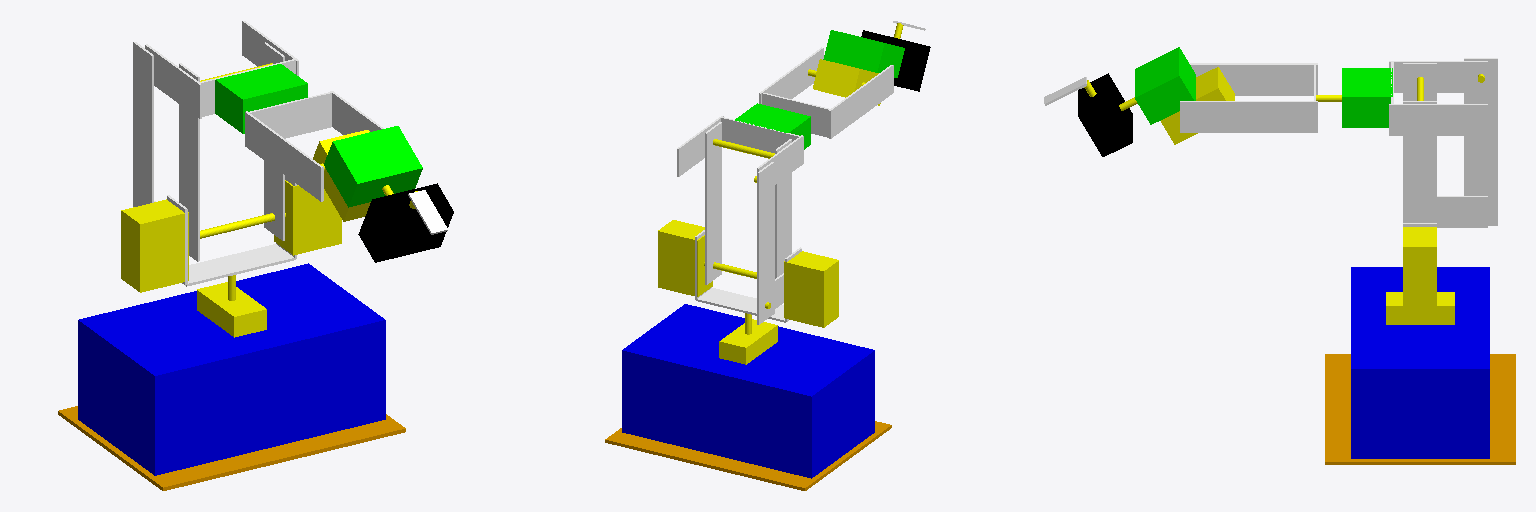
The robot description file, URDF, robot "six_arm":
<?xml version="1.0"?>
<robot name="six_arm"> 
<!--creat baselink-->
  <link name="base_link">
    <visual>
      <geometry>
        <box size="0.20 .15 .003"/>
      </geometry>
    </visual>
  </link>

<!--add dody-->
  <link name="body">
    <visual>
      <geometry>
       <box size="0.19 .11 .08"/>
      </geometry>
      <material name="blue">
          <color rgba="0 0 255 0.8"/>
      </material>  
    </visual>
  </link>  

  <joint name="base_to_body" type="fixed">
    <parent link="base_link"/>
    <child link="body"/>
    <origin xyz="0.0 0.0 0.04"/>
  </joint> 

<!-- shoulder stevo  XY -->
  <link name="shoulder_stevo">
    <visual>
      <geometry>
       <box size="0.054 .0403 .027"/>
      </geometry>
      <material name="black">
          <color rgba="1 1 0 1"/>
      </material>  
    </visual>
  </link> 

 <joint name="body_to_left_shoulder_stevo" type="fixed">
    <parent link="body"/>
    <child link="shoulder_stevo"/>
    <!--origin rpy="1.57075 0 1.57075" xyz="0.04 0.035 0.026"/ -->
    <origin rpy="1.57075 0 1.57075" xyz="0 0 0.036"/>
    <!-- origin rpy="1.57075 0 0" xyz="0.0 0.0 0.026" -->
 </joint>  


<!-- shoulder stevo axis XY -->
  <link name="shoulder_stevo_axis">
    <visual>
      <geometry>
       <cylinder length=".04" radius="0.0029"></cylinder>
      </geometry>
      <material name="yellow">
          <color rgba="1 1 0 1"/>
      </material>  
    </visual>
  </link>

  <joint name="shoulder_stevo_to_axis" type="revolute">
    <axis xyz="0 0 1"/> 
    <parent link="shoulder_stevo"/>
    <child link="shoulder_stevo_axis"/>
    <origin rpy="1.57075 0 0" xyz="0.0 0.027 0.0"/>
    <limit effort="100" velocity="100" lower="0" upper="3.1415926"/> 
    <joint_properties damping="0.0" friction="0.0"/>
  </joint>  





<!-- shoulder arm -->



<!-- left side-->
  <link name="shoulder_arm_up">
    <visual>
      <geometry>
       <box size="0.06 .027 .002"/>
      </geometry>
      <material name="sliver">
          <color rgba="223 223 223 1"/>
      </material>  
    </visual>
  </link> 

 <joint name="shoulder_stevo_axis_to_shoulder_arm_up" type="fixed">
    <parent link="shoulder_stevo_axis"/>
    <child link="shoulder_arm_up"/>
    <!-- origin rpy="0 -1.57075 0" xyz="0.073 0.0 -0.035"/ -->
    <origin rpy="0 -1.57075 1.57075" xyz="0 0.045 -0.05"/>
  </joint>  

  <!-- right side-->
  <link name="shoulder_arm_down">
    <visual>
      <geometry>
       <box size="0.06 .027 .002"/>
      </geometry>
      <material name="sliver">
          <color rgba="223 223 223 1"/>
      </material>  
    </visual>
  </link> 

 <joint name="shoulder_arm_up_to_shoulder_arm_down" type="fixed">
    <parent link="shoulder_arm_up"/>
    <child link="shoulder_arm_down"/>
    <origin xyz="0.0 0.0 0.09"/>
  </joint>  

 <!-- middle side-->
  <link name="shoulder_arm_middle">
    <visual>
      <geometry>
       <box size="0.09 .027 .002"/>
      </geometry>
      <material name="sliver">
          <color rgba="223 223 223 1"/>
      </material>  
    </visual>
  </link> 

 <joint name="shoulder_arm_up_to_shoulder_arm_middle" type="fixed">
    <parent link="shoulder_arm_up"/>
    <child link="shoulder_arm_middle"/>
    <origin rpy="0 1.57075 0" xyz="0.03 0.0 0.045"/>
  </joint> 


<!-- big arm_stevo left lift  XZ-->
  <link name="big_arm_stevo_lift">
    <visual>
      <geometry>
       <box size="0.054 .0403 .027"/>
      </geometry>
      <material name="black">
          <color rgba="1 1 0 1"/>
      </material>  
    </visual>
  </link> 

 <joint name="shoulder_arm_up_to_big_arm_stevo_lift" type="fixed">
    <parent link="shoulder_arm_up"/>
    <child link="big_arm_stevo_lift"/>
    <origin rpy="1.57075 0 0" xyz="0 0 -0.018"/>
  </joint> 
 <!-- big arm_stevo left lift  axis XZ-->
  <link name="big_arm_stevo_lift_axis">
    <visual>
      <geometry>
       <cylinder length=".0802" radius="0.0029"></cylinder>
      </geometry>
      <material name="yellow">
          <color rgba="1 1 0 1"/>
      </material>  
    </visual>
  </link>

  <joint name="big_arm_stevo_lift_to_axis" type="continuous">
    <axis xyz="0 0 1"/> 
    <parent link="big_arm_stevo_lift"/>
    <child link="big_arm_stevo_lift_axis"/>
    <origin rpy="1.57075 3.14159 0" xyz="0 0.0581 0"/>
    <limit effort="100" velocity="100"/> 
    <joint_properties damping="0.0" friction="0.0"/>
  </joint>  



<!-- middle arm_stevo  right lift  XZ-->
  <link name="middle_arm_stevo_right_lift">
    <visual>
      <geometry>
       <box size="0.054 .0403 .027"/>
      </geometry>
      <material name="black">
          <color rgba="1 1 0 1"/>
      </material>  
    </visual>
  </link> 

 <joint name="shoulder_arm_down_to_middle_arm_stevo_lift" type="fixed">
    <parent link="shoulder_arm_down"/>
    <child link="middle_arm_stevo_right_lift"/>
    <origin rpy="1.57075 0 0" xyz="0 0 0.018"/>
  </joint> 
 <!-- middle arm_stevo right lift axis XZ-->
  <link name="middle_arm_stevo_axis">
    <visual>
      <geometry>
       <cylinder length=".008" radius="0.0029"></cylinder>
      </geometry>
      <material name="yellow">
          <color rgba="1 1 0 1"/>
      </material>  
    </visual>
  </link>

  <joint name="middle_arm_stevo_to_axis" type="continuous">
    <axis xyz="0 0 1"/> 
    <parent link="middle_arm_stevo_right_lift"/>
    <child link="middle_arm_stevo_axis"/>
    <origin rpy="1.57075 0 0" xyz="0 -0.022 0"/>
    <limit effort="100" velocity="100"/> 
    <joint_properties damping="0.0" friction="0.0"/>
  </joint>  

 
<!-- link one-->  
 <link name="serial_link_one">
    <visual>
      <geometry>
       <box size="0.058 .027 .002"/>
      </geometry>
      <material name="sliver">
          <color rgba="223 223 223 1"/>
      </material>  
    </visual>
  </link> 

 <joint name="big_arm_stevo_lift_axis_to_serial_link_one" type="fixed">
    <parent link="middle_arm_stevo_axis"/>
    <child link="serial_link_one"/>
    <origin rpy="0 0 1.57075" xyz="0 0.024 0"/>
  </joint> 

 <!-- link one  axis -->
  <link name="link_one_axis">
    <visual>
      <geometry>
       <cylinder length=".008" radius="0.0029"></cylinder>
      </geometry>
      <material name="yellow">
          <color rgba="1 1 0 1"/>
      </material>  
    </visual>
  </link>

  <joint name="serial_link_one_to_axis" type="continuous">
    <axis xyz="0 0 1"/> 
    <parent link="serial_link_one"/>
    <child link="link_one_axis"/>
    <origin rpy="0 0 0" xyz="0.024 0 -0.004"/>
    <limit effort="100" velocity="100"/> 
    <joint_properties damping="0.0" friction="0.0"/>
  </joint>


<!-- link two--> 
  <link name="serial_link_two">
    <visual>
      <geometry>
       <box size="0.145 .027 .002"/>
      </geometry>
      <material name="sliver">
          <color rgba="223 223 223 1"/>
      </material>  
    </visual>
  </link> 

 <joint name="link_one_axis_to_serial_link_two" type="fixed">
    <parent link="link_one_axis"/>
    <child link="serial_link_two"/>
    <origin rpy="0 0 1.57075" xyz="0 0.059 0"/>
  </joint>  


 <!-- link two  axis -->
  <link name="link_two_axis">
    <visual>
      <geometry>
       <cylinder length=".01" radius="0.0029"></cylinder>
      </geometry>
      <material name="yellow">
          <color rgba="1 1 0 1"/>
      </material>  
    </visual>
  </link>

  <joint name="serial_link_two_to_axis" type="continuous">
    <axis xyz="0 0 1"/> 
    <parent link="serial_link_two"/>
    <child link="link_two_axis"/>
    <origin rpy="0 0 0" xyz="0.059 0 0.005"/>
    <limit effort="100" velocity="100"/> 
    <joint_properties damping="0.0" friction="0.0"/>
  </joint>





<!-- big arm -->
  <!-- eft side-->
  <link name="big_arm_up">
    <visual>
      <geometry>
       <box size="0.145 .027 .002"/>
      </geometry>
      <material name="sliver">
          <color rgba="223 223 223 1"/>
      </material>  
    </visual>
  </link> 

 <joint name="big_arm_stevo_lift_axis_to_left_big_arm" type="fixed">
    <parent link="big_arm_stevo_lift_axis"/>
    <child link="big_arm_up"/>
    <origin rpy="0 0 0" xyz="0.059 0.0 -0.0399"/>
  </joint>  

 <!-- right side-->
  <link name="big_arm_down">
    <visual>
      <geometry>
       <box size="0.145 .027 .002"/>
      </geometry>
      <material name="sliver">
          <color rgba="223 223 223 1"/>
      </material>  
    </visual>
  </link> 

 <joint name="big_arm_up_to_left_big_arm_down" type="fixed">
    <parent link="big_arm_up"/>
    <child link="big_arm_down"/>
    <origin xyz="0.0 0.0 0.07"/>
  </joint>   


<!-- arm stevo-->

  <link name="arm_stevo_axis">
    <visual>
      <geometry>
       <cylinder length=".0804" radius="0.0029"></cylinder>
      </geometry>
      <material name="yellow">
          <color rgba="1 1 0 1"/>
      </material>  
    </visual>
  </link>

  <joint name="big_arm_up_to_axis" type="revolute">
    <axis xyz="0 0 1"/> 
    <parent link="big_arm_up"/>
    <child link="arm_stevo_axis"/>
    <origin rpy="0 0 0" xyz="0.059 0.0 0.0352"/>
    <limit effort="100" velocity="100" lower="0" upper="3.1415926"/> 
    <joint_properties damping="0.0" friction="0.0"/>
  </joint>  




<!-- mid_small_arm left side-->
  <link name="mid_small_arm_up">
    <visual>
      <geometry>
       <box size="0.078 .027 .002"/>
      </geometry>
      <material name="sliver">
          <color rgba="223 223 223 1"/>
      </material>  
    </visual>
  </link> 


<!-- one link
     connect to fixed joint into closed chain
     problem...?
     cordination error ?
-->
 <joint name="arm_stevo_axis_to_mid_small_arm_up" type="fixed">
    <parent link="arm_stevo_axis"/>
    <child link="mid_small_arm_up"/>
    <origin rpy="0 0 1.57075" xyz="0 -0.014 -0.04"/>
  </joint>  

<!--
 <joint name="link_two_axis_to_mid_small_arm_up" type="fixed">
    <parent link="link_two_axis"/>
    <child link="mid_small_arm_up"/>
    <origin rpy="0 0 1.57075" xyz="0 0.034 0"/>
  </joint>  
-->

<!-- one link
     connect to fixed joint 
     problem...?
     cordination error ?
-->





<!-- right side-->
  <link name="mid_small_arm_down">
    <visual>
      <geometry>
       <box size="0.078 .027 .002"/>
      </geometry>
      <material name="sliver">
          <color rgba="223 223 223 1"/>
      </material>  
    </visual>
  </link> 

 <joint name="mid_small_arm_up_to_mid_small_arm_down" type="fixed">
    <parent link="mid_small_arm_up"/>
    <child link="mid_small_arm_down"/>
    <origin xyz="0.0 0.0 0.08"/>
  </joint> 


 <!-- middle side-->
  <link name="mid_small_arm_middle">
    <visual>
      <geometry>
       <box size="0.08 .027 .002"/>
      </geometry>
      <material name="sliver">
          <color rgba="223 223 223 1"/>
      </material>  
    </visual>
  </link> 

 <joint name="mid_small_arm_up_to_mid_small_arm_middle" type="fixed">
    <parent link="mid_small_arm_up"/>
    <child link="mid_small_arm_middle"/>
    <origin rpy="0 1.57075 0" xyz="0.036 0.0 0.04"/>
  </joint> 








 <!-- small arm stering servo-->
   <link name="small_arm_run_stevo">
    <visual>
      <geometry>
       <box size="0.054 .027 .0403"/>
      </geometry>
      <material name="green">
          <color rgba="0 255 0 1 "/>
      </material>  
    </visual>
  </link> 

 <joint name="arm_stevo_to_arm_run_stevo" type="fixed">
    <parent link="mid_small_arm_middle"/>
    <child link="small_arm_run_stevo"/>
    <origin rpy="0 0 0" xyz="0 0 0.02"/>
  </joint>  


<link name="small_arm_run_stevo_axis">
    <visual>
      <geometry>
       <cylinder length=".04" radius="0.0029"></cylinder>
      </geometry>
      <material name="yellow">
          <color rgba="1 1 0 1"/>
      </material>  
    </visual>
  </link>

  <joint name="small_arm_run_stevo_to_axis" type="revolute">
    <axis xyz="0 0 1"/> 
    <parent link="small_arm_run_stevo"/>
    <child link="small_arm_run_stevo_axis"/>
    <!-- origin rpy="0 0 0" xyz="0.0135 0 0.020"/ -->
    <origin rpy="0 0 0" xyz="0 0 0.020"/>
    <limit effort="100" velocity="100" lower="0" upper="3.1415926"/> 
    <joint_properties damping="0.0" friction="0.0"/>
  </joint> 





 <!-- left side-->
  <link name="small_arm_up">
    <visual>
      <geometry>
       <box size="0.10875 .027 .002"/>
      </geometry>
      <material name="sliver">
          <color rgba="223 223 223 1"/>
      </material>  
    </visual>
  </link> 

 <joint name="arm_run_stevo_axis_to_left_small_arm_up" type="fixed">
    <parent link="small_arm_run_stevo_axis"/>
    <child link="small_arm_up"/>
    <!-- origin rpy="0 -1.57075 0" xyz="0.073 0.0 -0.035"/ -->
    <origin rpy="0 -1.57075 0" xyz="0.035 0 0.073"/>
  </joint>  

  <!-- right side-->
  <link name="small_arm_down">
    <visual>
      <geometry>
       <box size="0.10875 .027 .002"/>
      </geometry>
      <material name="sliver">
          <color rgba="223 223 223 1"/>
      </material>  
    </visual>
  </link> 

 <joint name="small_arm_up_to_small_arm_down" type="fixed">
    <parent link="small_arm_up"/>
    <child link="small_arm_down"/>
    <origin xyz="0.0 0.0 0.07"/>
  </joint>  

 <!-- middle side-->
  <link name="small_arm_middle">
    <visual>
      <geometry>
       <box size="0.07 .027 .002"/>
      </geometry>
      <material name="sliver">
          <color rgba="223 223 223 1"/>
      </material>  
    </visual>
  </link> 

 <joint name="small_arm_up_to_small_arm_middle" type="fixed">
    <parent link="small_arm_up"/>
    <child link="small_arm_middle"/>
    <origin rpy="0 1.57075 0" xyz="-0.052 0.0 0.035"/>
  </joint> 

<!--wrist stevo-->
  <link name="wrist_stevo_axis">
    <visual>
      <geometry>
       <cylinder length=".0704" radius="0.0029"></cylinder>
      </geometry>
      <material name="yellow">
          <color rgba="1 1 0 1"/>
      </material>  
    </visual>
  </link>

  <joint name="small_arm_up_to_axis" type="revolute">
    <axis xyz="0 0 1"/> 
    <parent link="small_arm_up"/>
    <child link="wrist_stevo_axis"/>
    <origin rpy="0 0 0.5" xyz="0.0295 0.0 0.0352"/>
    <limit effort="100" velocity="100" lower="0" upper="3.1415926"/> 
    <joint_properties damping="0.0" friction="0.0"/>
  </joint>  

  <link name="wrist_stevo">
    <visual>
      <geometry>
       <box size="0.054 .027 .0403"/>
      </geometry>
      <material name="black">
          <color rgba="1 1 0 1"/>
      </material>  
    </visual>
  </link> 

 <joint name="small_arm_up_to_axis_to_axis_stevo" type="fixed">
    <parent link="wrist_stevo_axis"/>
    <child link="wrist_stevo"/>
    <origin xyz="0.0135 0.0 0.0"/>
  </joint> 

<!--wrist stering stevo-->
  <link name="wrist_run_stevo">
    <visual>
      <geometry>
       <box size="0.054 .027 .0403"/>
      </geometry>
      <material name="green">
          <color rgba="0 255 0 1 "/>
      </material>  
    </visual>
  </link> 

 <joint name="wrist_stevo_to_wrist_run_stevo" type="fixed">
    <parent link="wrist_stevo"/>
    <child link="wrist_run_stevo"/>
    <origin rpy="0 1.57075 0" xyz="0.0135 -0.027 0.0"/>
  </joint>   

  <link name="wrist_run_stevo_axis">
    <visual>
      <geometry>
       <cylinder length=".04" radius="0.0029"></cylinder>
      </geometry>
      <material name="yellow">
          <color rgba="1 1 0 1"/>
      </material>  
    </visual>
  </link>

  <joint name="wrist_run_stevo_to_axis" type="revolute">
    <axis xyz="0 0 1"/> 
    <parent link="wrist_run_stevo"/>
    <child link="wrist_run_stevo_axis"/>
    <!-- origin rpy="0 0 0" xyz="0.0135 0 0.020"/ -->
    <origin rpy="0 0 0" xyz="0 0 0.020"/>
    <limit effort="100" velocity="100" lower="0" upper="3.1415926"/> 
    <joint_properties damping="0.0" friction="0.0"/>
  </joint> 

<!-- hand run stevo -->
  <link name="hand_run_stevo">
    <visual>
      <geometry>
       <box size="0.054 .027 .0403"/>
      </geometry>
      <material name="black">
          <color rgba="0 0 0 1 "/>
      </material>  
    </visual>
  </link> 

 <joint name="wrist_run_stevo_axis_to_hand_run_stevo" type="fixed">
    <parent link="wrist_run_stevo_axis"/>
    <child link="hand_run_stevo"/>
    <origin rpy="1.57075 0 0" xyz="0.0 0.0 0.0335"/>
  </joint>  

 <link name="hand_run_stevo_axis">
    <visual>
      <geometry>
       <cylinder length=".04" radius="0.0029"></cylinder>
      </geometry>
      <material name="yellow">
          <color rgba="1 1 0 1"/>
      </material>  
    </visual>
  </link>


  <joint name="hand_run_stevo_to_hand_run_stevo_axis" type="revolute">
    <axis xyz="0 0 1"/> 
    <parent link="hand_run_stevo"/>
    <child link="hand_run_stevo_axis"/>
    <!-- origin rpy="0 0 0" xyz="0.0135 0 0.0135"/ -->
    <origin rpy="0 0 0" xyz="0 0 0.0135"/>
    <limit effort="100" velocity="100" lower="0" upper="3.1415916"/> 
    <joint_properties damping="0.0" friction="0.0"/>
  </joint>    


<!--finger-->
  <link name="finger">
    <visual>
      <geometry>
       <box size="0.0375 .0135 .002"/>
      </geometry>
      <material name="sliver">
          <color rgba="223 223 223 1"/>
      </material>  
    </visual>
  </link> 

 <joint name="hand_run_stevo_axis_to_finger" type="fixed">
    <parent link="hand_run_stevo_axis"/>
    <child link="finger"/>
    <origin rpy="0 0 1.57075" xyz="0.0 0.0173 0.02"/>
  </joint>    







</robot>

--- What the picture shows (computed from the rendered views, not written in the file) ---
3 views of the same robot in one strip: view 1: azimuth 30°, elevation 25°; view 2: azimuth 150°, elevation 25°; view 3: azimuth 270°, elevation 25° (orthographic).
Robot: six_arm — 33 links, 32 joints (6 revolute, 4 continuous, 22 fixed); root link base_link; default pose: every joint at zero.
Links seen in each view (by area): view 1: body, wrist_run_stevo, base_link, middle_arm_stevo_right_lift, hand_run_stevo, small_arm_run_stevo, serial_link_two, big_arm_stevo_lift, small_arm_up, big_arm_up, shoulder_stevo, small_arm_middle (+9 smaller); view 2: body, middle_arm_stevo_right_lift, base_link, big_arm_stevo_lift, serial_link_two, big_arm_down, wrist_run_stevo, small_arm_up, shoulder_stevo, big_arm_up, small_arm_run_stevo, wrist_stevo (+7 smaller); view 3: body, base_link, small_arm_down, serial_link_two, wrist_run_stevo, small_arm_up, mid_small_arm_down, big_arm_down, hand_run_stevo, small_arm_run_stevo, big_arm_stevo_lift, mid_small_arm_up (+4 smaller).
Boxes of the visible links, bbox=[...] form: body: bbox=[78, 263, 385, 475]; wrist_run_stevo: bbox=[324, 126, 422, 207]; base_link: bbox=[58, 406, 405, 490]; middle_arm_stevo_right_lift: bbox=[121, 199, 188, 292]; hand_run_stevo: bbox=[358, 183, 453, 262]; small_arm_run_stevo: bbox=[215, 64, 307, 133]; serial_link_two: bbox=[133, 42, 153, 206]; big_arm_stevo_lift: bbox=[274, 180, 341, 255]; small_arm_up: bbox=[245, 111, 323, 201]; big_arm_up: bbox=[179, 63, 199, 261]; shoulder_stevo: bbox=[197, 282, 266, 337]; small_arm_middle: bbox=[247, 92, 332, 138]; body: bbox=[622, 304, 874, 478]; middle_arm_stevo_right_lift: bbox=[784, 251, 838, 327]; base_link: bbox=[605, 421, 891, 490]; big_arm_stevo_lift: bbox=[658, 220, 712, 296]; serial_link_two: bbox=[757, 162, 774, 324]; big_arm_down: bbox=[705, 122, 721, 284]; wrist_run_stevo: bbox=[823, 30, 904, 77]; small_arm_up: bbox=[829, 65, 893, 138]; shoulder_stevo: bbox=[719, 319, 777, 364]; big_arm_up: bbox=[775, 139, 791, 278]; small_arm_run_stevo: bbox=[735, 103, 810, 149]; wrist_stevo: bbox=[813, 59, 880, 105]; body: bbox=[1351, 267, 1489, 458]; base_link: bbox=[1325, 354, 1515, 464]; small_arm_down: bbox=[1180, 101, 1317, 132]; serial_link_two: bbox=[1464, 58, 1497, 225]; wrist_run_stevo: bbox=[1135, 47, 1195, 124]; small_arm_up: bbox=[1189, 63, 1317, 95]; mid_small_arm_down: bbox=[1389, 104, 1487, 135]; big_arm_down: bbox=[1403, 101, 1436, 222]; hand_run_stevo: bbox=[1078, 73, 1132, 156]; small_arm_run_stevo: bbox=[1342, 68, 1392, 127]; big_arm_stevo_lift: bbox=[1403, 227, 1436, 309]; mid_small_arm_up: bbox=[1389, 61, 1487, 92].
Size in the robot's own frame: 0.2 by 0.3713 by 0.3048 metres.
Geometry: primitives only (box / cylinder / sphere), no mesh files.
